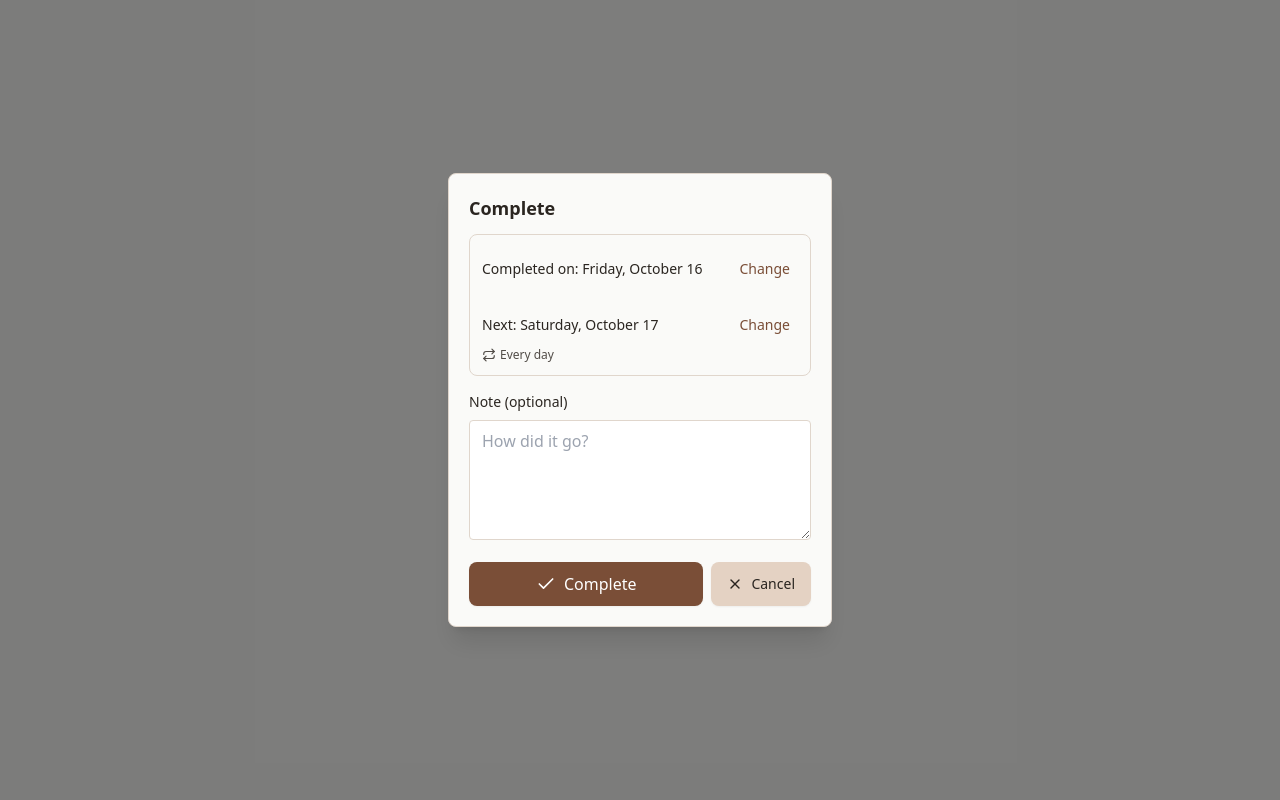
it: the Completed on picker leaves every day up to today open: no lower bound, today as the upper
This screenshot has width=1280, height=800.
Click the button with aria-label "Change completed on" at {"x": 765, "y": 269}, box [732,247,798,291]
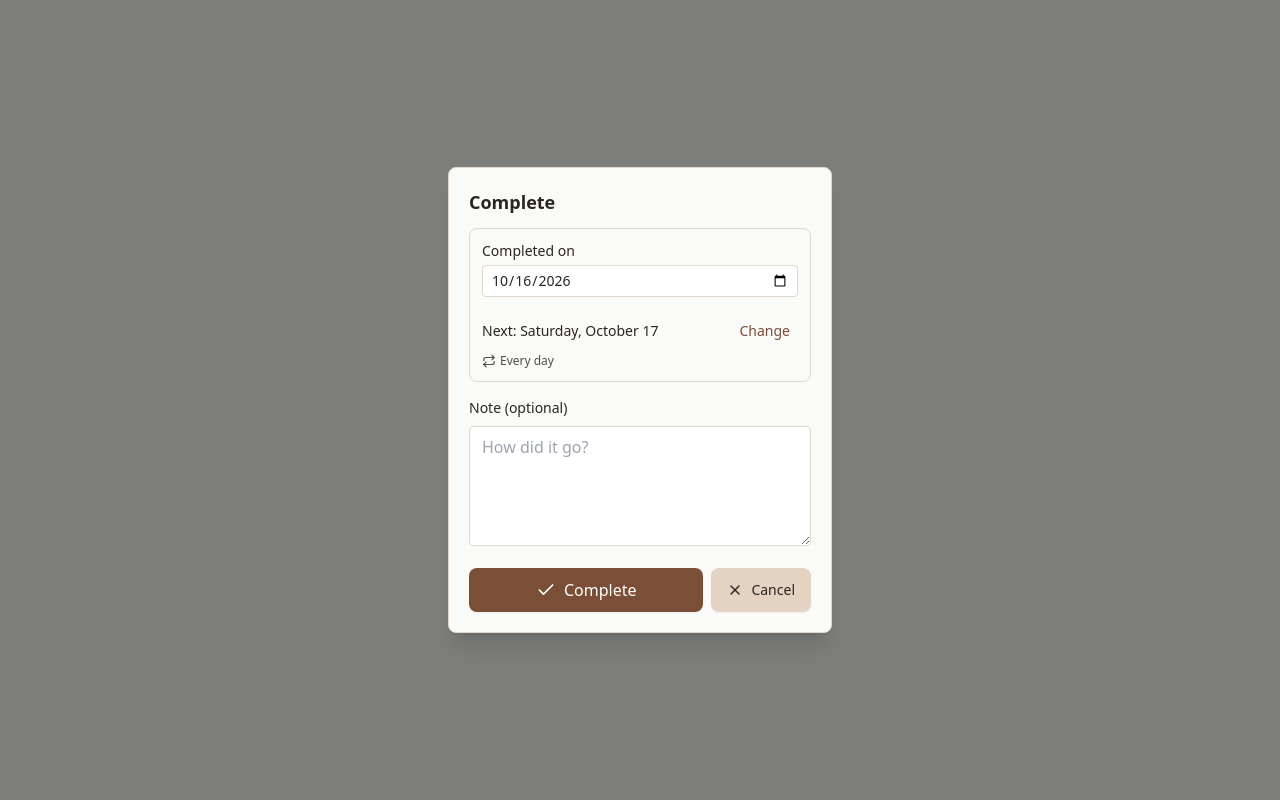
Now the date field labelled "Completed on" holds "2026-10-16", box [482,265,798,297]
